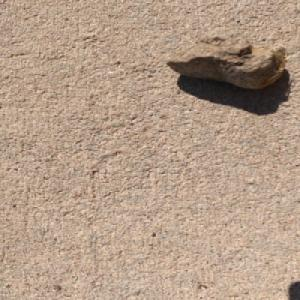Rock: (165, 26, 289, 89)
